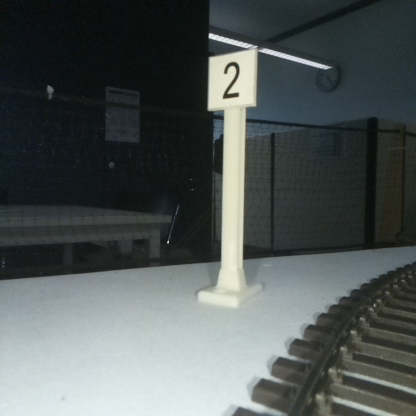white-info-2: (208, 49, 256, 300)
